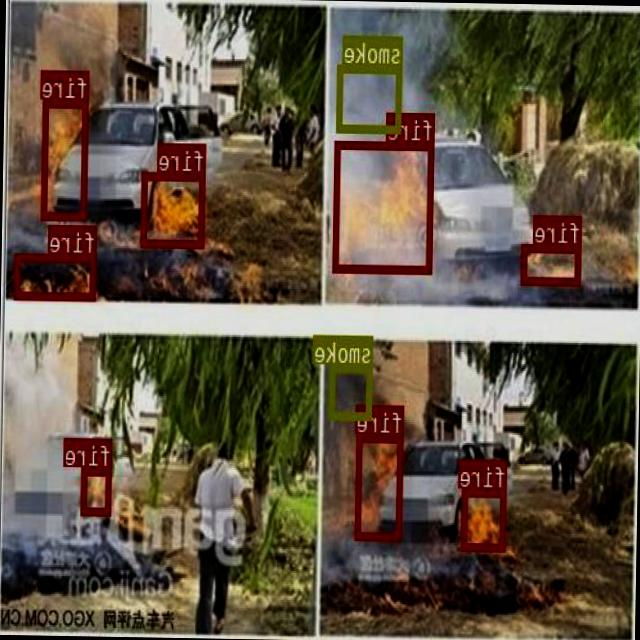fire: (334, 139, 435, 272), (42, 98, 89, 218), (355, 432, 404, 538), (142, 170, 206, 247), (15, 252, 96, 298), (462, 486, 507, 550), (523, 242, 582, 284), (81, 466, 112, 514)
smoke: (337, 62, 403, 131), (330, 362, 374, 418)
